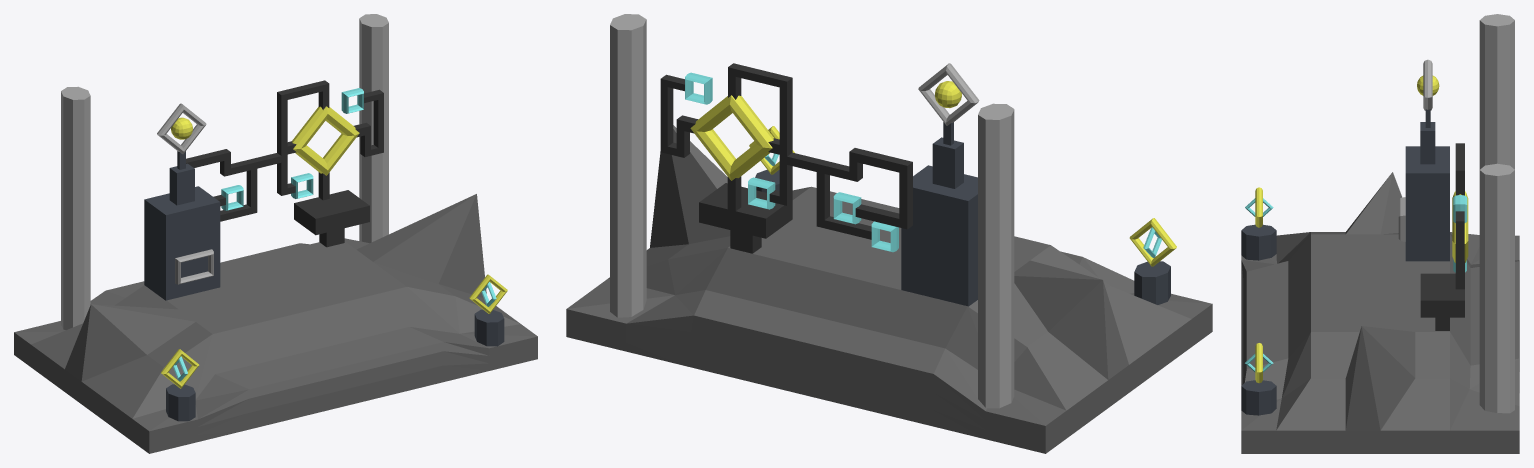
Rendered from Electric Stage Coloured.fbx.
3 renders of one model, left to right at view 1: azimuth 30°, elevation 25°; view 2: azimuth 150°, elevation 25°; view 3: azimuth 270°, elevation 25°, orthographic. The views are drawn at different scales.
Visible parts, largest first — view 1: pCube1, pCube2, pCylinder3, pCylinder2, pCube5, pCube3, pTorus5, pCube4, pCylinder5, pCylinder4, pTorus15, pTorus11 (+2 smaller); view 2: pCube1, pCylinder3, pCylinder2, pCube2, pCube5, pCube3, pTorus5, pCube4, pCylinder4, pTorus15, pTorus16, pTorus10 (+1 smaller); view 3: pCube1, pCylinder2, pCube2, pCylinder3, pCube3, pCylinder4, pCylinder5, pCube4, pCube5, pTorus15, pTorus5, pTorus11 (+3 smaller).
Part boxes in pixels (<box>): pCube1: <box>14,194,537,453</box>; pCube2: <box>144,151,220,300</box>; pCylinder3: <box>61,86,90,329</box>; pCylinder2: <box>359,14,388,243</box>; pCube5: <box>186,80,329,221</box>; pCube3: <box>294,190,369,247</box>; pTorus5: <box>292,106,359,175</box>; pCube4: <box>354,89,383,156</box>; pCylinder5: <box>474,309,504,346</box>; pCylinder4: <box>166,384,195,421</box>; pTorus15: <box>157,103,206,154</box>; pTorus11: <box>175,249,213,284</box>; pCube1: <box>566,125,1212,453</box>; pCylinder3: <box>978,103,1014,408</box>; pCylinder2: <box>610,14,646,317</box>; pCube2: <box>901,122,977,306</box>; pCube5: <box>728,63,912,239</box>; pCube3: <box>699,183,792,253</box>; pTorus5: <box>690,95,773,180</box>; pCube4: <box>660,74,697,157</box>; pCylinder4: <box>1134,261,1170,304</box>; pTorus15: <box>918,63,979,125</box>; pTorus16: <box>1129,218,1176,266</box>; pTorus10: <box>685,72,712,104</box>; pCube1: <box>1241,172,1519,453</box>; pCylinder2: <box>1479,163,1514,413</box>; pCube2: <box>1405,109,1449,261</box>; pCylinder3: <box>1479,14,1514,169</box>; pCube3: <box>1420,273,1464,330</box>; pCylinder4: <box>1241,224,1276,260</box>; pCylinder5: <box>1241,380,1276,415</box>; pCube4: <box>1455,211,1464,282</box>; pCube5: <box>1455,143,1464,195</box>; pTorus15: <box>1423,59,1432,110</box>; pTorus5: <box>1452,191,1468,262</box>; pTorus11: <box>1398,197,1405,241</box>.
Bounding box in the file's own units: 17.97 × 11.36 × 10.84.
